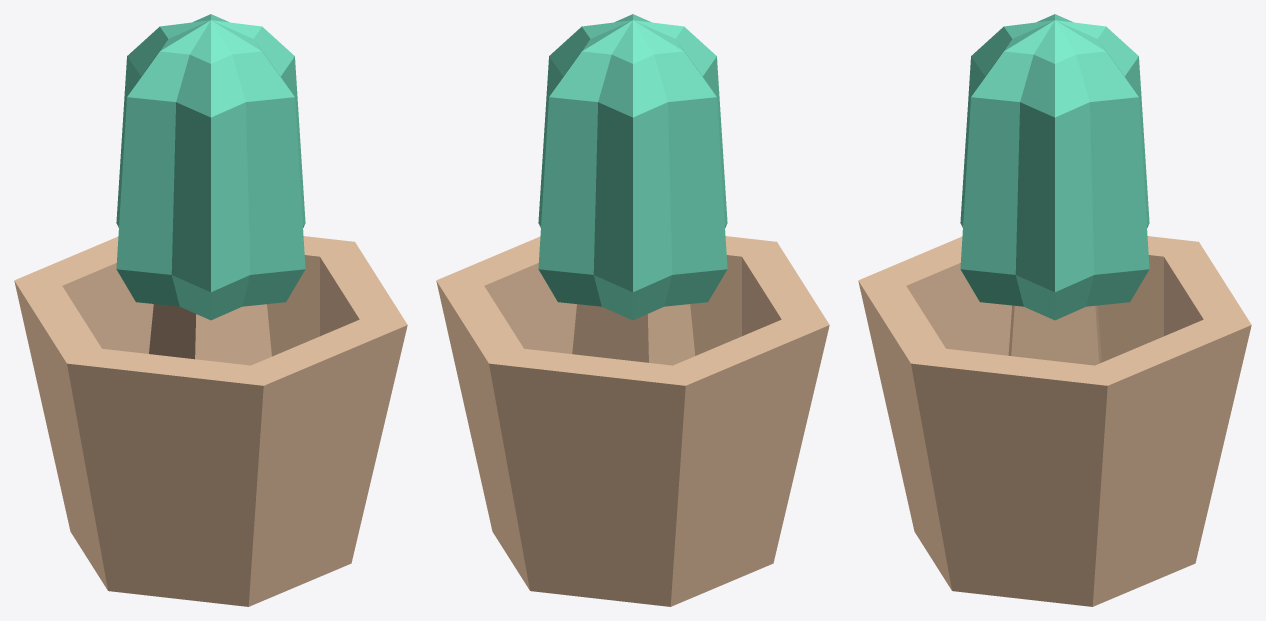
The model's file is plantSmall2.gltf.
3 views of the same model, side by side, from view 1: azimuth 30°, elevation 25°; view 2: azimuth 150°, elevation 25°; view 3: azimuth 270°, elevation 25° (orthographic).
Parts seen in each view (by area): view 1: plantSmall2(Clone); view 2: plantSmall2(Clone); view 3: plantSmall2(Clone).
Boxes of the visible parts, x1,y1,x2,y2 form: plantSmall2(Clone): [14, 14, 407, 606]; plantSmall2(Clone): [436, 14, 829, 606]; plantSmall2(Clone): [858, 14, 1251, 606].
Size of the model in its own units: 0.0947 by 0.14 by 0.0947.
